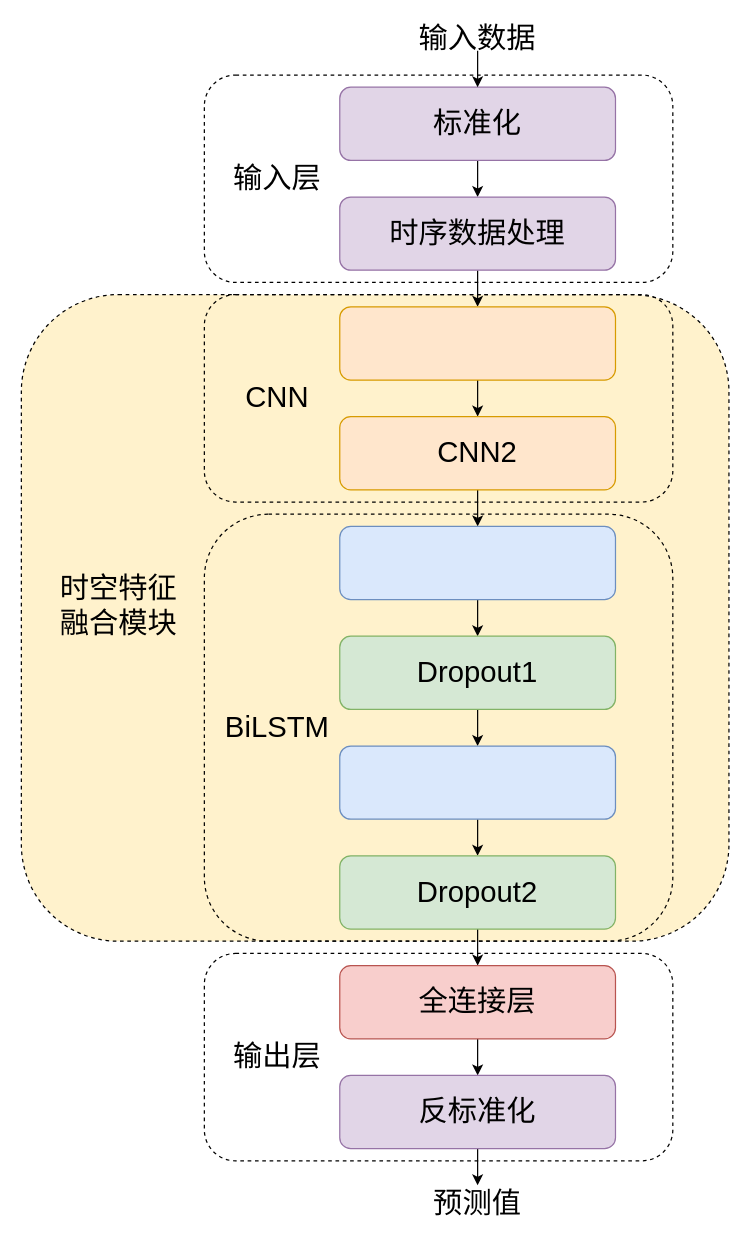
Image size: 750x1243. Some labels were removed from this diagram. Here are the shapes that lost their labels. From the top down, the centre of each, then its label:
point 477,343: CNN1
point 477,562: BiLSTM1
point 477,782: BiLSTM2
